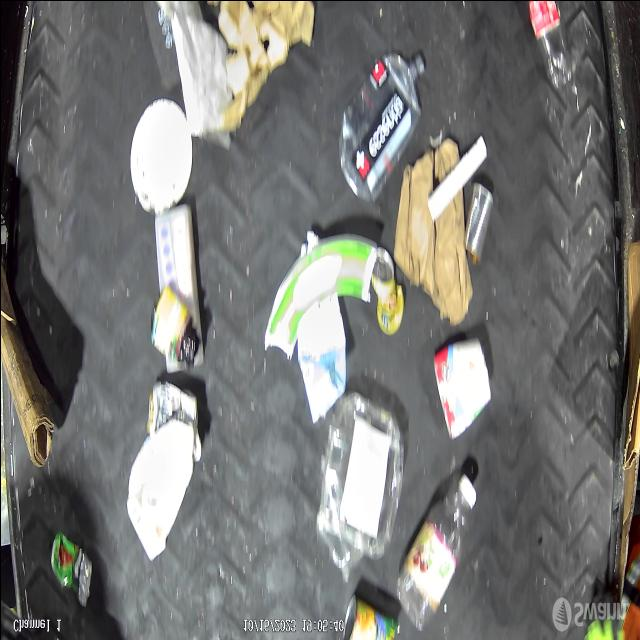can: (432, 337, 490, 442), (146, 381, 202, 461), (48, 530, 92, 608), (369, 242, 405, 336), (342, 594, 400, 640), (463, 180, 492, 264)
milk_jug: (124, 419, 194, 562), (296, 294, 348, 424)
plastic_bottle: (338, 46, 425, 205), (396, 476, 477, 630), (527, 0, 573, 91)
